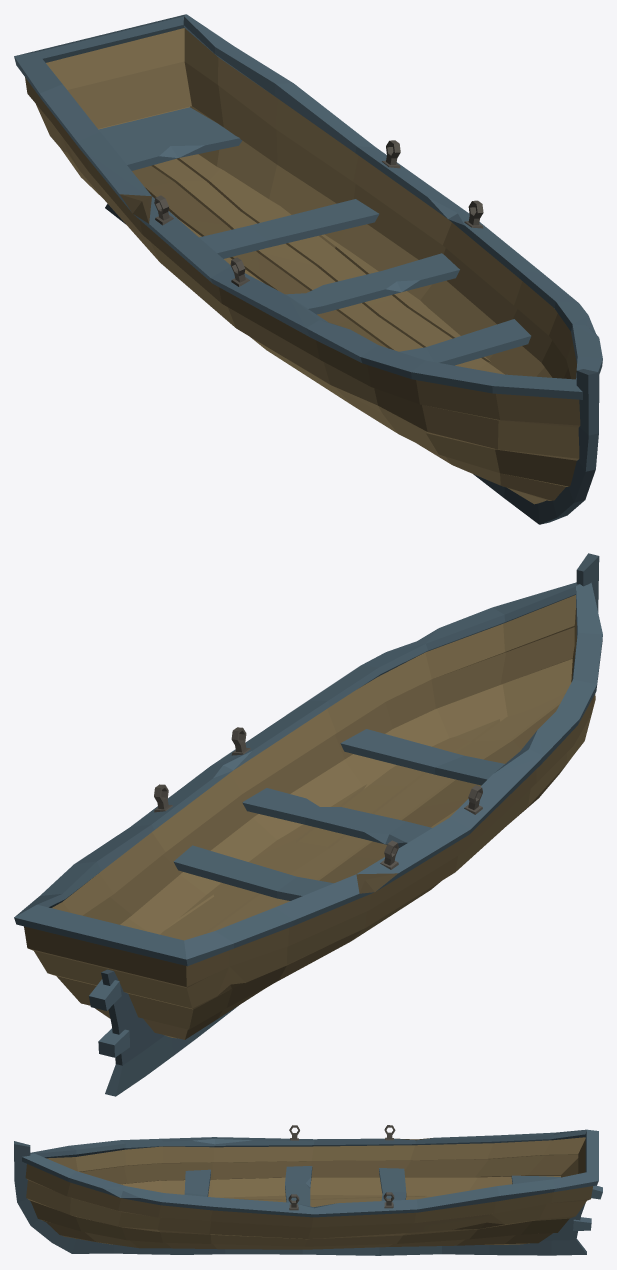
The model's file is BoatLarge_2.fbx.
3 views of the same model, one above another, from view 1: azimuth 30°, elevation 25°; view 2: azimuth 150°, elevation 25°; view 3: azimuth 270°, elevation 25° (orthographic). The views are drawn at different scales.
Parts seen in each view (by area): view 1: BoatLarge_2; view 2: BoatLarge_2; view 3: BoatLarge_2.
Boxes of the visible parts, left/top/right/bottom form: BoatLarge_2: left=14, top=14, right=602, bottom=524; BoatLarge_2: left=14, top=553, right=602, bottom=1096; BoatLarge_2: left=14, top=1125, right=602, bottom=1255.
Size of the model in its own units: 187 by 129 by 618.
